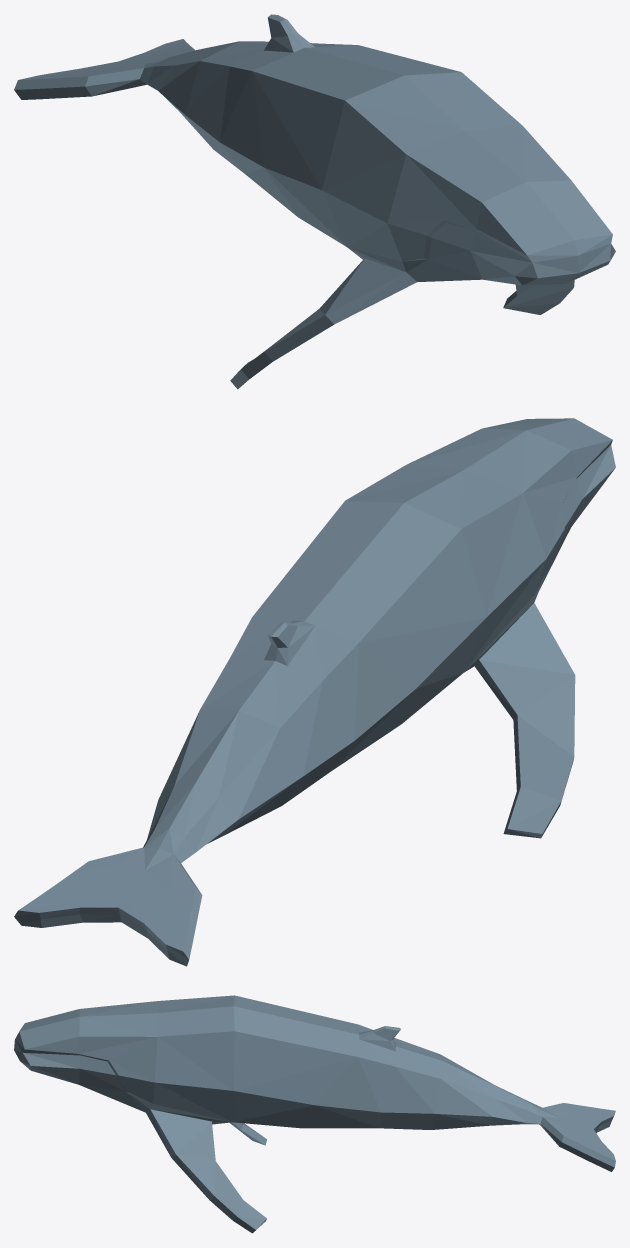
File: whale.glb
3 renders of one model, top to bottom at view 1: azimuth 30°, elevation 25°; view 2: azimuth 150°, elevation 25°; view 3: azimuth 270°, elevation 25°, orthographic. The views are drawn at different scales.
Visible parts, largest first — view 1: Whale.obj; view 2: Whale.obj; view 3: Whale.obj.
Part boxes in pixels (left/top/right/bottom): Whale.obj: left=14, top=14, right=615, bottom=389; Whale.obj: left=14, top=418, right=615, bottom=966; Whale.obj: left=14, top=995, right=615, bottom=1233.
Size of the model in its own units: 0.7746 by 0.664 by 2.
